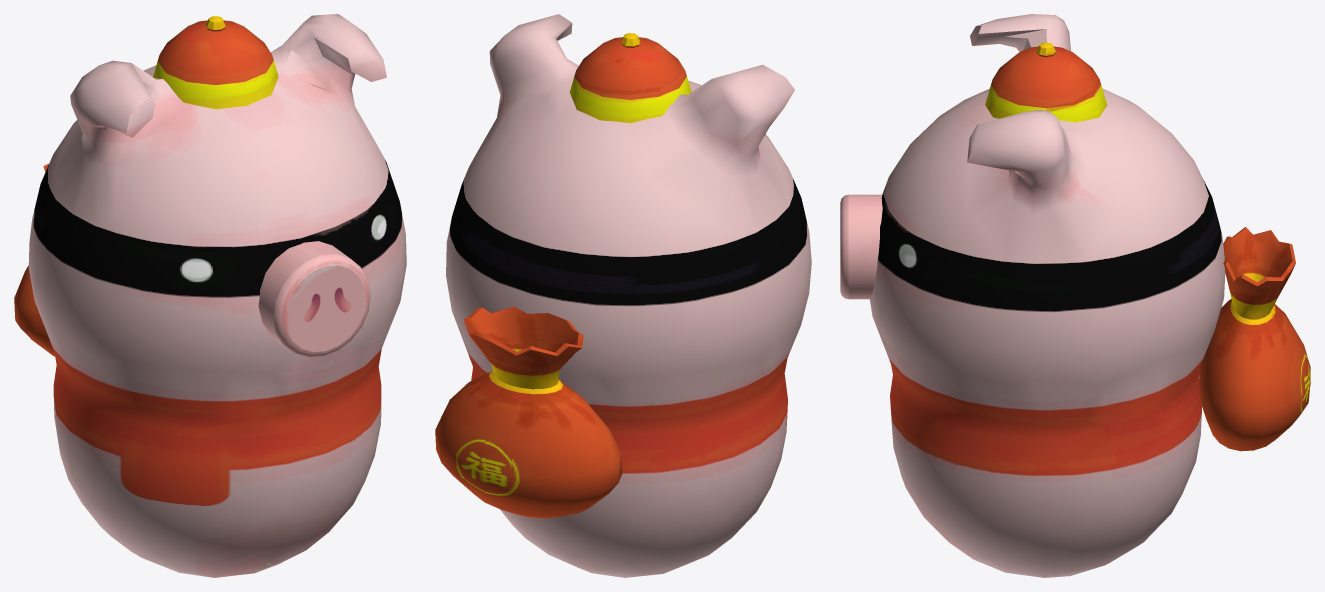
Rendered from pig.glb.
The picture shows the model from 3 angles, left to right: view 1: azimuth 30°, elevation 25°; view 2: azimuth 150°, elevation 25°; view 3: azimuth 270°, elevation 25°; orthographic projection. The views are drawn at different scales.
Visible parts, largest first — view 1: pig; view 2: pig; view 3: pig.
Part boxes in pixels (box(x1,y1,x2,y2)): pig: box(14, 14, 406, 577); pig: box(435, 14, 811, 577); pig: box(840, 14, 1310, 577).
Bounding box in the file's own units: 1.36 × 2.17 × 1.78.
1 material, 1 textured.
